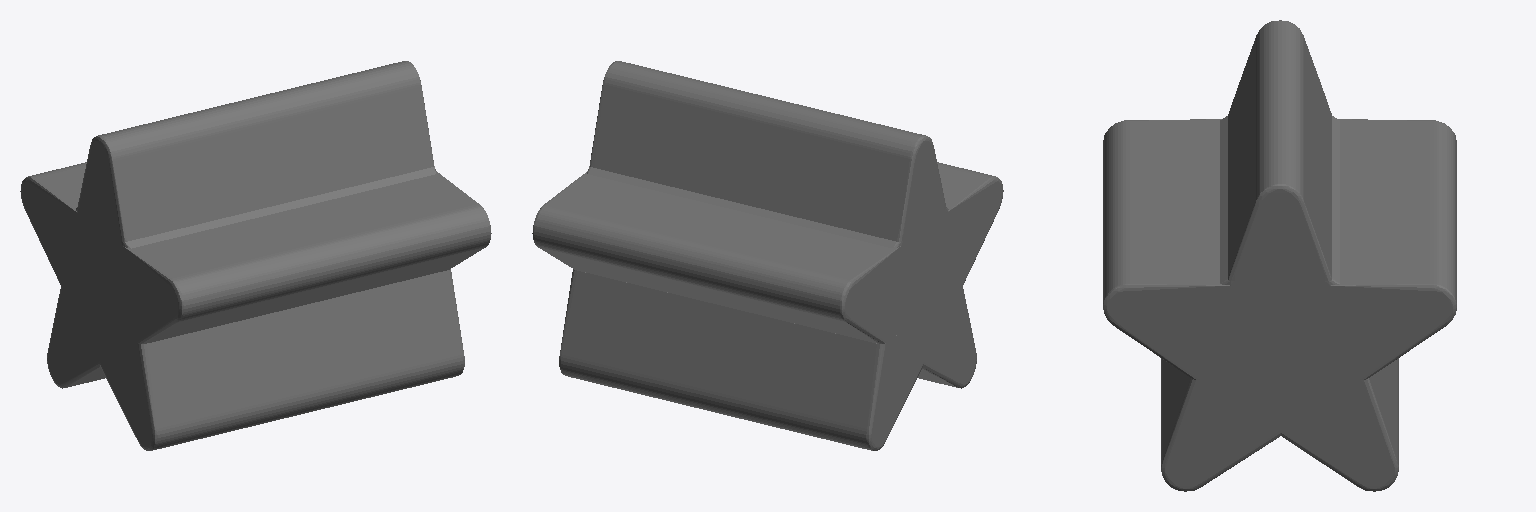
The robot description file, URDF, robot "square_table_leg4_fmb_star_big_sdf_hybrid_matchedmass":
<?xml version="1.0" encoding="utf-8"?>
<robot name="square_table_leg4_fmb_star_big_sdf_hybrid_matchedmass">
  <!-- FMB-shape body variant (star): body cross-section from the FMB benchmark, same length, same thread.
       Generated by tools/peg_variants/make_leg4_fmb_variants.py. -->
  <link name="base_link">
    <inertial>
      <mass value="0.022750"/>
      <origin xyz="0.007933 -0.000002 -0.002218" rpy="0 0 0"/>
      <inertia ixx="5.460116e-06" ixy="-5.651737e-11" ixz="2.002618e-07" iyy="1.212955e-05" iyz="4.008143e-10" izz="1.211941e-05"/>
    </inertial>
  </link>
  <material name="thread">
    <color rgba="0.95 0.55 0.10 1.0"/>
  </material>
  <material name="body">
    <color rgba="0.50 0.50 0.50 1.0"/>
  </material>
  <link name="thread_link">
    <visual>
      <origin xyz="0 0 0" rpy="0 0 0"/>
      <geometry><mesh filename="../../sdf_hybrid/square_table_leg4_thread.obj" scale="1 1 1"/></geometry>
      <material name="thread"/>
    </visual>
    <collision>
      <origin xyz="0 0 0" rpy="0 0 0"/>
      <geometry><mesh filename="../../sdf_hybrid/square_table_leg4_thread.obj" scale="1 1 1"/></geometry>
      <sdf resolution="256"/>
    </collision>
  </link>
  <joint name="base_to_thread" type="fixed">
    <parent link="base_link"/>
    <child link="thread_link"/>
    <origin xyz="0 0 0" rpy="0 0 0"/>
  </joint>
  <link name="body_link">
    <visual><origin xyz="0 0 0" rpy="0 0 0"/><geometry><mesh filename="body_coacd/decomp_0.obj" scale="1 1 1"/></geometry><material name="body"/></visual>
    <collision><origin xyz="0 0 0" rpy="0 0 0"/><geometry><mesh filename="body_coacd/decomp_0.obj" scale="1 1 1"/></geometry></collision>
    <visual><origin xyz="0 0 0" rpy="0 0 0"/><geometry><mesh filename="body_coacd/decomp_1.obj" scale="1 1 1"/></geometry><material name="body"/></visual>
    <collision><origin xyz="0 0 0" rpy="0 0 0"/><geometry><mesh filename="body_coacd/decomp_1.obj" scale="1 1 1"/></geometry></collision>
    <visual><origin xyz="0 0 0" rpy="0 0 0"/><geometry><mesh filename="body_coacd/decomp_2.obj" scale="1 1 1"/></geometry><material name="body"/></visual>
    <collision><origin xyz="0 0 0" rpy="0 0 0"/><geometry><mesh filename="body_coacd/decomp_2.obj" scale="1 1 1"/></geometry></collision>
    <visual><origin xyz="0 0 0" rpy="0 0 0"/><geometry><mesh filename="body_coacd/decomp_3.obj" scale="1 1 1"/></geometry><material name="body"/></visual>
    <collision><origin xyz="0 0 0" rpy="0 0 0"/><geometry><mesh filename="body_coacd/decomp_3.obj" scale="1 1 1"/></geometry></collision>
    <visual><origin xyz="0 0 0" rpy="0 0 0"/><geometry><mesh filename="body_coacd/decomp_4.obj" scale="1 1 1"/></geometry><material name="body"/></visual>
    <collision><origin xyz="0 0 0" rpy="0 0 0"/><geometry><mesh filename="body_coacd/decomp_4.obj" scale="1 1 1"/></geometry></collision>
  </link>
  <joint name="base_to_body" type="fixed">
    <parent link="base_link"/>
    <child link="body_link"/>
    <origin xyz="0 0 0" rpy="0 0 0"/>
  </joint>
</robot>

--- What the picture shows (computed from the rendered views, not written in the file) ---
3 views of the same robot in one strip: view 1: azimuth 30°, elevation 25°; view 2: azimuth 150°, elevation 25°; view 3: azimuth 270°, elevation 25° (orthographic).
Robot: square_table_leg4_fmb_star_big_sdf_hybrid_matchedmass — 3 links, 2 joints (2 fixed); root link base_link; default pose: every joint at zero.
Visible links, largest first — view 1: body_link; view 2: body_link; view 3: body_link.
Boxes of the visible links, x1,y1,x2,y2 form: body_link: (20,61,491,450); body_link: (532,61,1003,450); body_link: (1103,20,1456,491).
Bounding box of the posed robot: 0.0632 × 0.0567 × 0.0543 m (x, y, z).
5 mesh visuals loaded from 6 distinct referenced files (5 OBJ); not drawn: 1 (reference not matched to a file when rendering).
